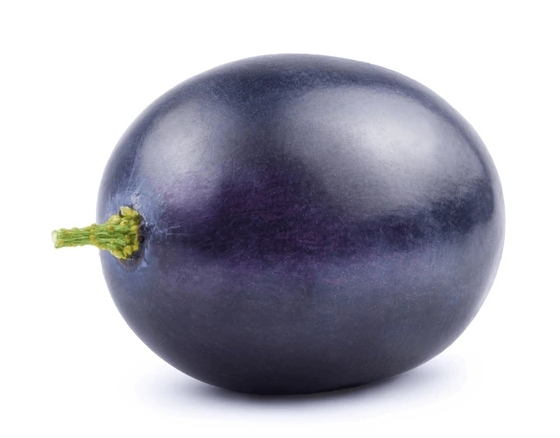grapes: (42, 48, 491, 416)
